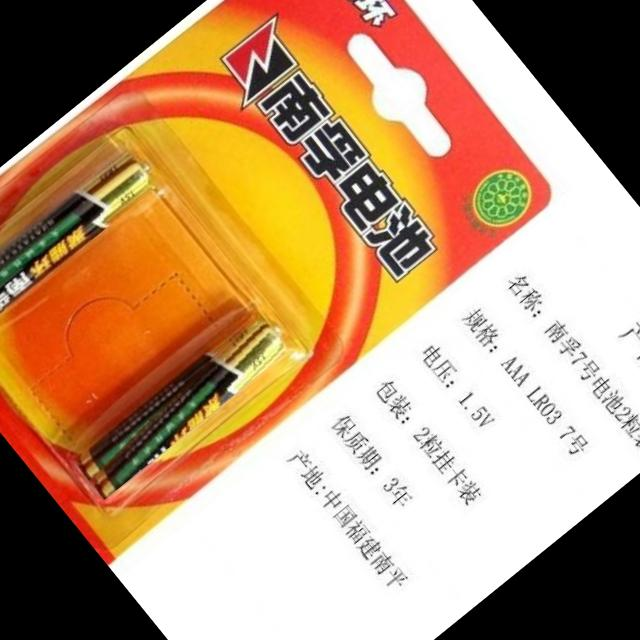Hazard: (72, 308, 294, 500), (0, 143, 162, 339)
